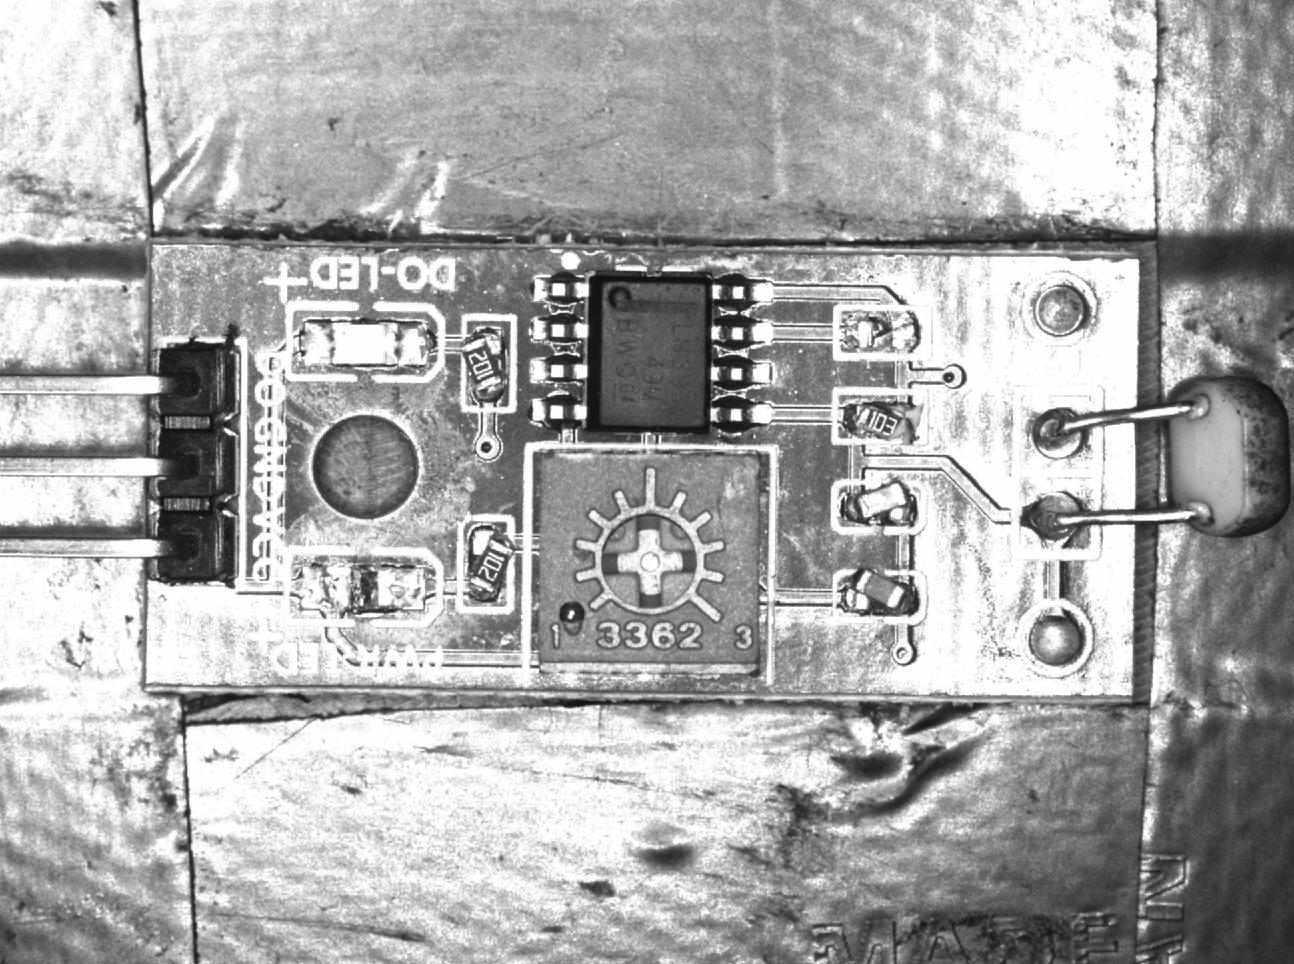lifted: (454, 516, 515, 613), (837, 388, 931, 449), (461, 316, 517, 412), (832, 480, 922, 536), (835, 570, 925, 624)
miss: (834, 308, 929, 358)
